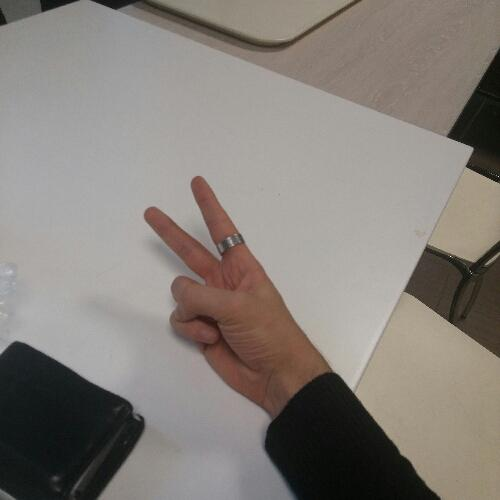scissors: (136, 170, 316, 393)
